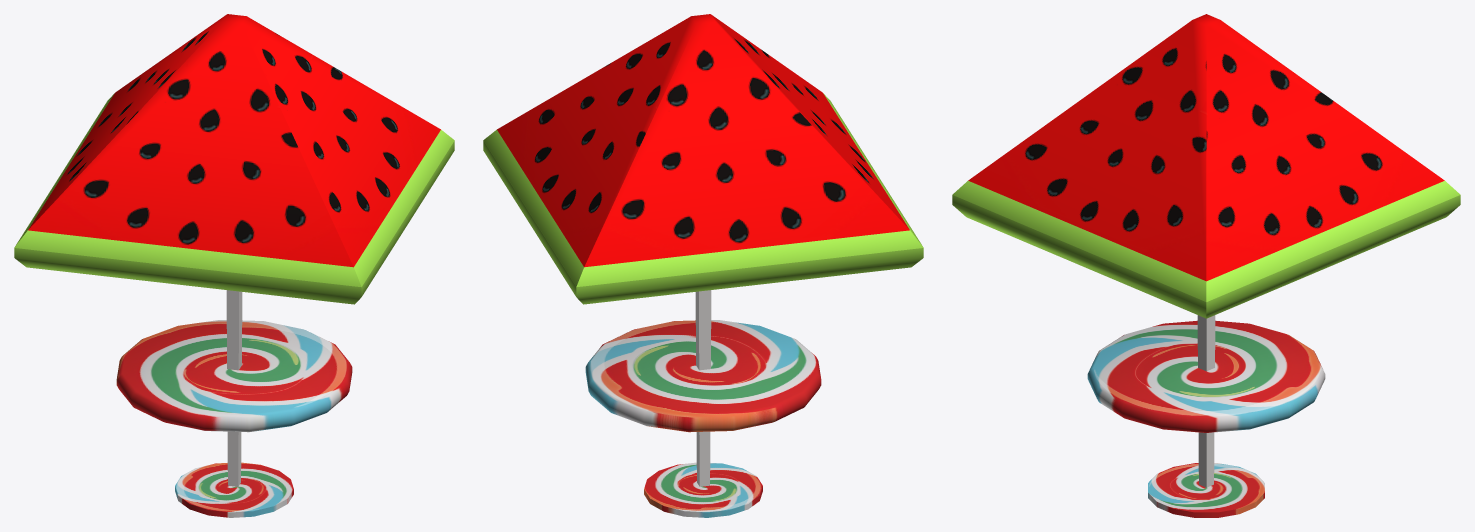
The model's file is watermelon-umbrella-with-table.glb.
3 views of the same model, side by side, from view 1: azimuth 30°, elevation 25°; view 2: azimuth 150°, elevation 25°; view 3: azimuth 270°, elevation 25° (orthographic).
Visible parts, largest first — view 1: umbrella; view 2: umbrella; view 3: umbrella.
Boxes of the visible parts, x1,y1,x2,y2 form: umbrella: [14, 14, 454, 517]; umbrella: [483, 14, 923, 517]; umbrella: [952, 14, 1460, 517].
Size of what is drawn, in the model's own units: 4.32 by 4.43 by 4.32.
4 materials, 2 textured.
